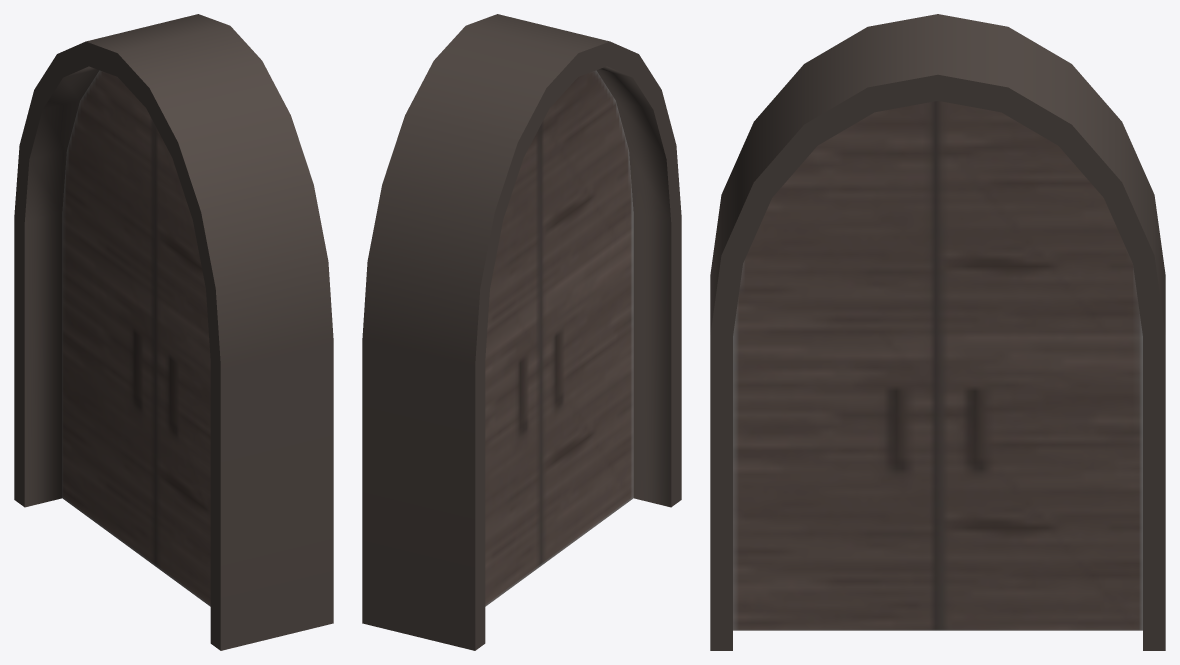
File: obj_sewer_door_1.fbx
The picture shows the model from 3 angles, left to right: view 1: azimuth 30°, elevation 25°; view 2: azimuth 150°, elevation 25°; view 3: azimuth 270°, elevation 25°; orthographic projection. The views are drawn at different scales.
Visible parts, largest first — view 1: obj_sewer_door_1; view 2: obj_sewer_door_1; view 3: obj_sewer_door_1.
Part boxes in pixels (<box>): obj_sewer_door_1: <box>14,14,333,650</box>; obj_sewer_door_1: <box>362,14,681,650</box>; obj_sewer_door_1: <box>710,14,1165,650</box>.
Bounding box in the file's own units: 0.8218 × 3.64 × 2.61.
1 material, 1 textured.
